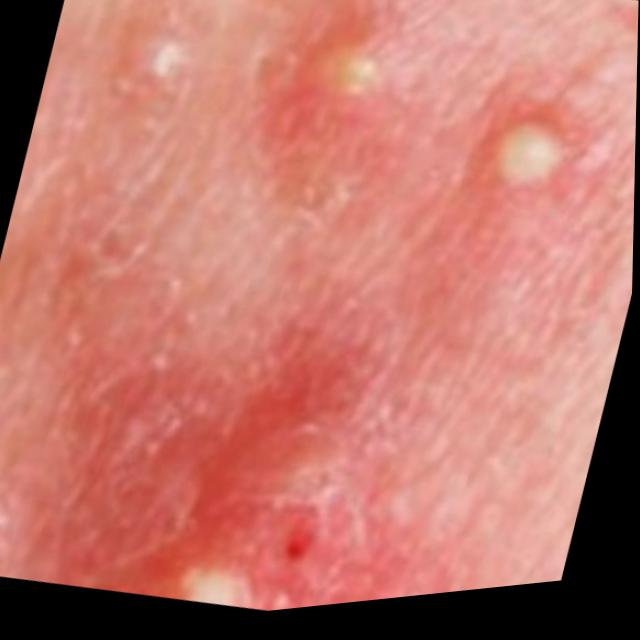pustule: (321, 7, 609, 262), (160, 542, 351, 617)
